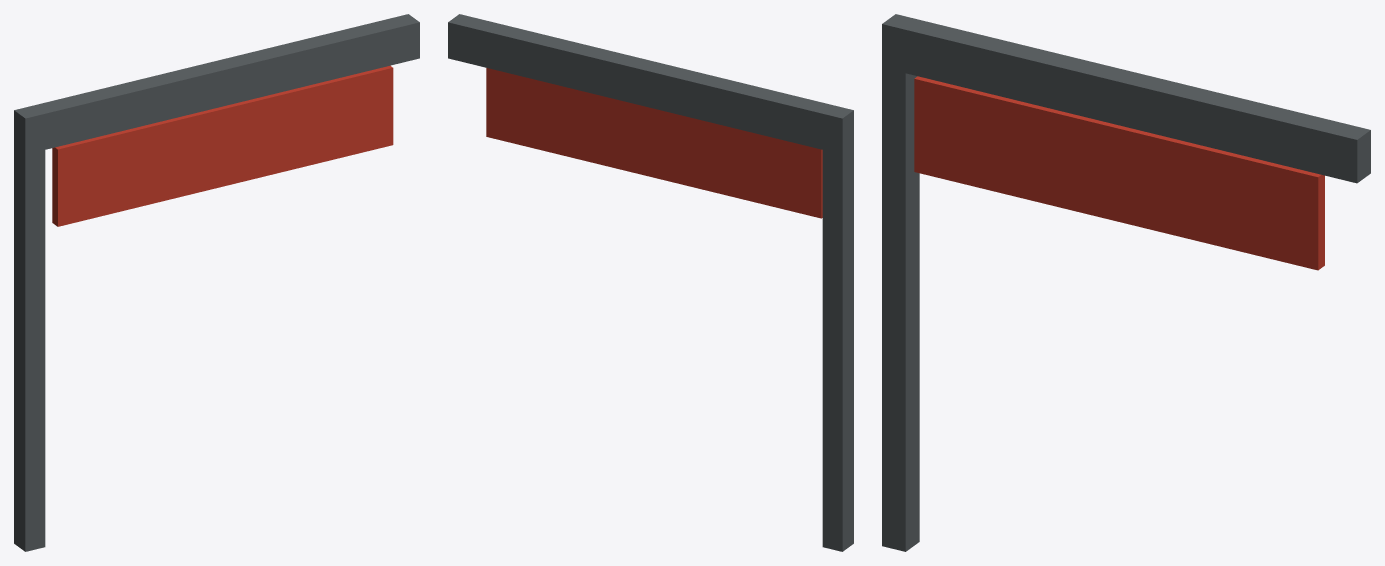
Rendered from shed-entrance.glb.
3 views of the same model, side by side, from view 1: azimuth 30°, elevation 25°; view 2: azimuth 150°, elevation 25°; view 3: azimuth 330°, elevation 25° (orthographic). The views are drawn at different scales.
Parts seen in each view (by area): view 1: shed-entrance; view 2: shed-entrance; view 3: shed-entrance.
Boxes of the visible parts, x1=… form: shed-entrance: x1=14, y1=14, x2=419, y2=551; shed-entrance: x1=448, y1=14, x2=853, y2=551; shed-entrance: x1=882, y1=14, x2=1370, y2=551.
Size of the model in its own units: 4 by 4.2 by 0.25.
